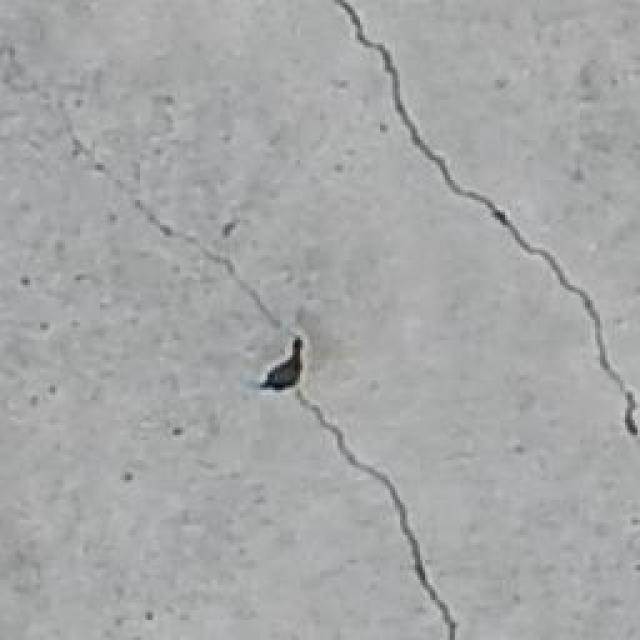concrete-crack: (450, 182, 638, 435), (300, 390, 435, 602), (335, 0, 450, 182), (238, 280, 305, 392), (140, 208, 238, 280), (438, 602, 458, 640)
